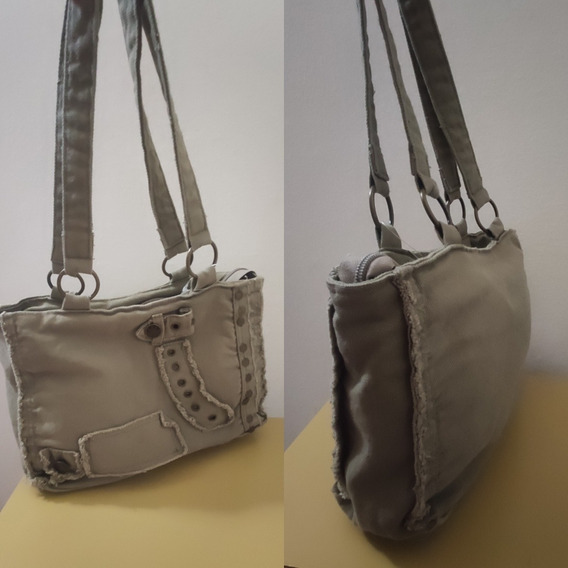cartera: (3, 1, 273, 498), (323, 1, 534, 545)
